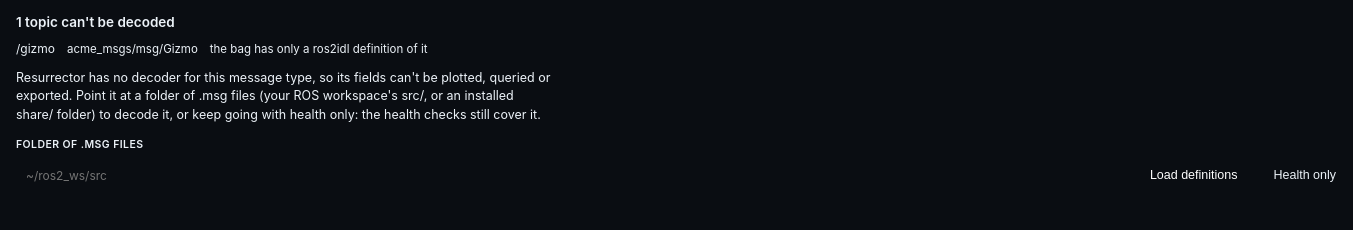
DecoderNotice › shows the server's reason when the folder can't be loaded
Type "/tmp/x" into the field labelled "Folder of .msg files".
click(572, 175); type("/tmp/x")  # box [16, 160, 1128, 190]
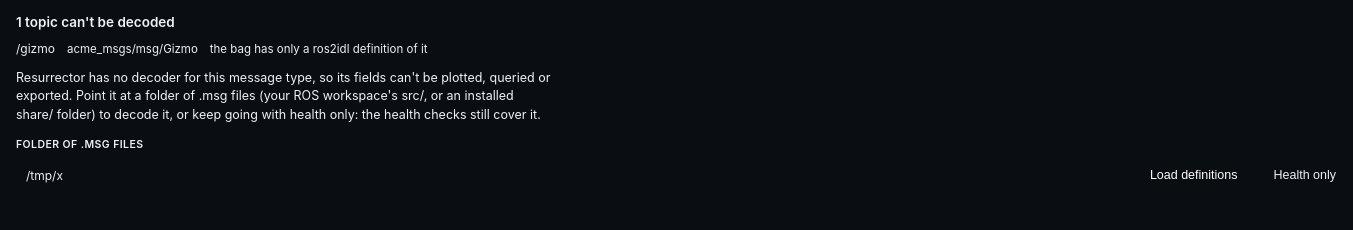
Click the button "Load definitions".
click(1194, 175)  # box [1136, 161, 1252, 189]
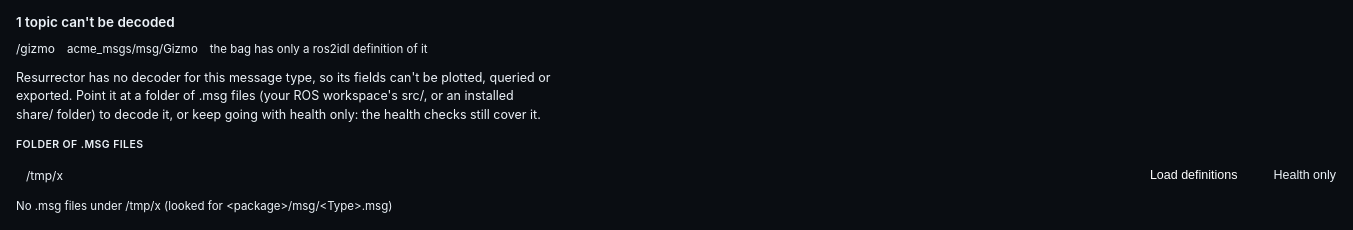
Now the text "No .msg files under /tmp/x" is shown, box [16, 198, 392, 212]
